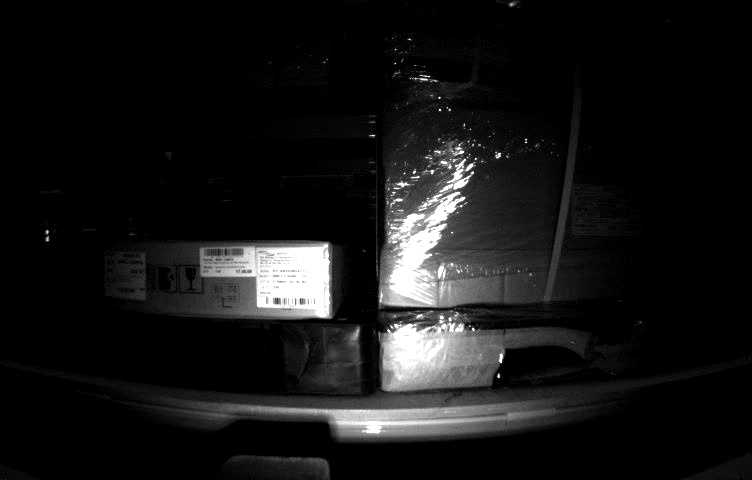True Barcode: (99, 247, 148, 302)
